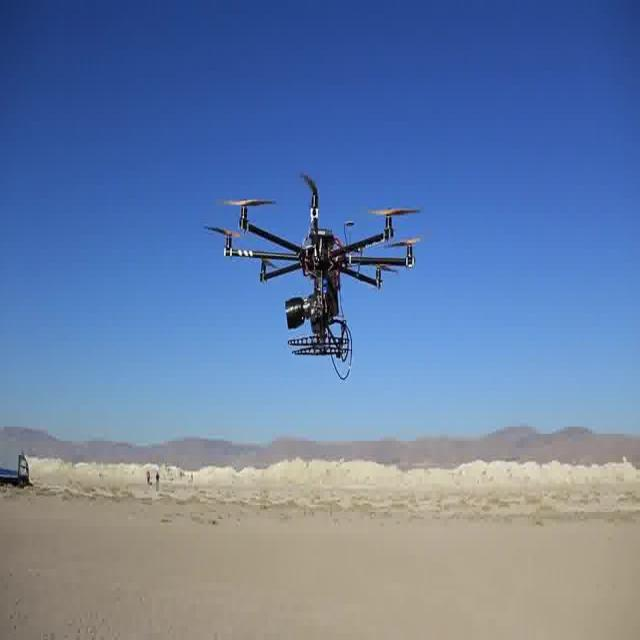drone: (203, 168, 423, 379)
